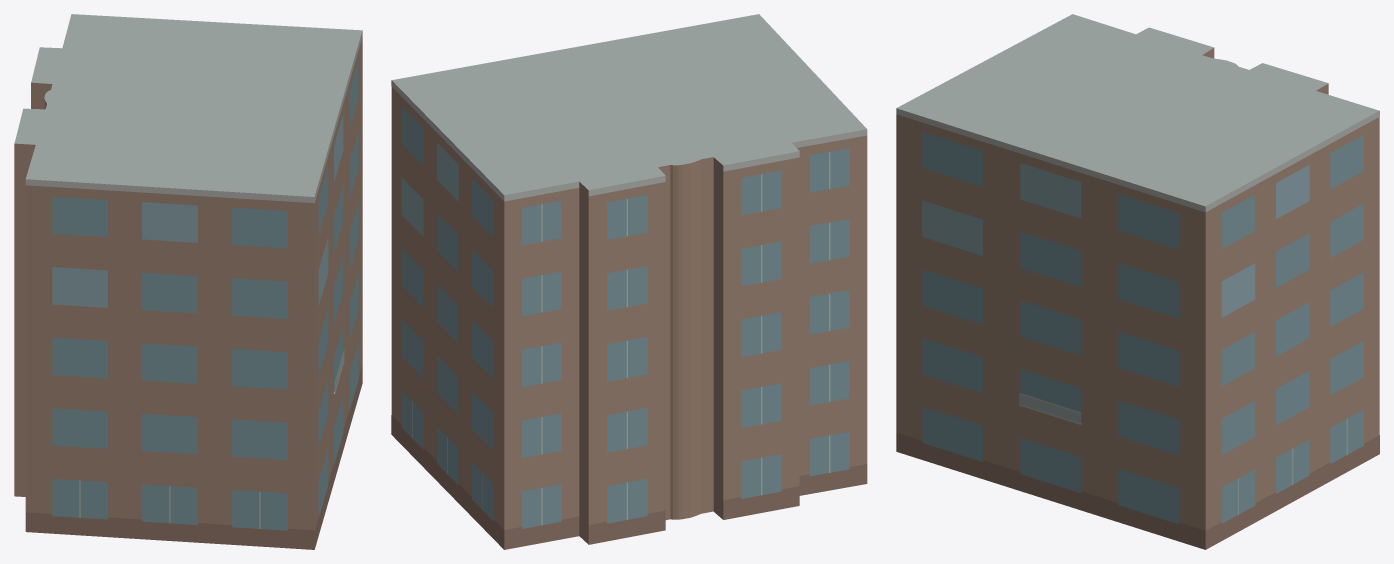
File: survey-upis-32863076.glb
The picture shows the model from 3 angles, left to right: view 1: azimuth 30°, elevation 25°; view 2: azimuth 150°, elevation 25°; view 3: azimuth 270°, elevation 25°; orthographic projection. The views are drawn at different scales.
Visible parts, largest first — view 1: survey-upis-32863076.tmp; view 2: survey-upis-32863076.tmp; view 3: survey-upis-32863076.tmp.
Boxes of the visible parts, x1=… form: survey-upis-32863076.tmp: x1=14, y1=14, x2=362, y2=549; survey-upis-32863076.tmp: x1=391, y1=14, x2=867, y2=549; survey-upis-32863076.tmp: x1=896, y1=14, x2=1379, y2=549.
Size of the model in its own units: 16.96 by 14.1 by 18.
